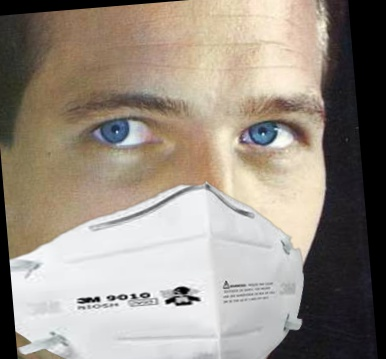good: (0, 0, 359, 359)
